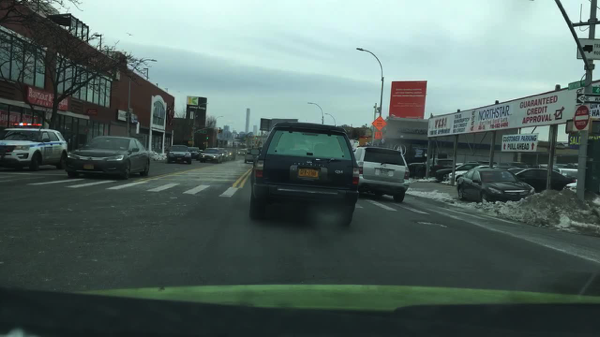car: (248, 121, 360, 228), (63, 135, 152, 181), (0, 121, 70, 173), (351, 145, 411, 204), (455, 168, 535, 206), (512, 168, 576, 193), (447, 164, 521, 183), (433, 163, 491, 181), (165, 144, 192, 165), (407, 158, 455, 167), (497, 160, 529, 169), (553, 167, 578, 178), (242, 149, 260, 164), (212, 147, 228, 162), (186, 147, 202, 162), (465, 159, 498, 166), (560, 179, 576, 193), (222, 147, 237, 161), (532, 163, 558, 170), (551, 163, 569, 169), (564, 162, 578, 169), (453, 162, 464, 167), (198, 149, 205, 156), (237, 150, 245, 156), (238, 149, 247, 153), (235, 148, 239, 155)
traffic light: (216, 128, 221, 134), (187, 140, 193, 145), (254, 135, 258, 140), (206, 135, 209, 141), (190, 131, 193, 136), (220, 129, 223, 133)
traffic sign: (575, 38, 599, 62), (571, 104, 589, 133), (270, 118, 298, 129), (370, 116, 388, 131), (575, 93, 599, 104), (567, 80, 585, 91), (258, 118, 271, 132), (374, 131, 383, 140), (197, 129, 208, 134), (592, 87, 599, 94)
